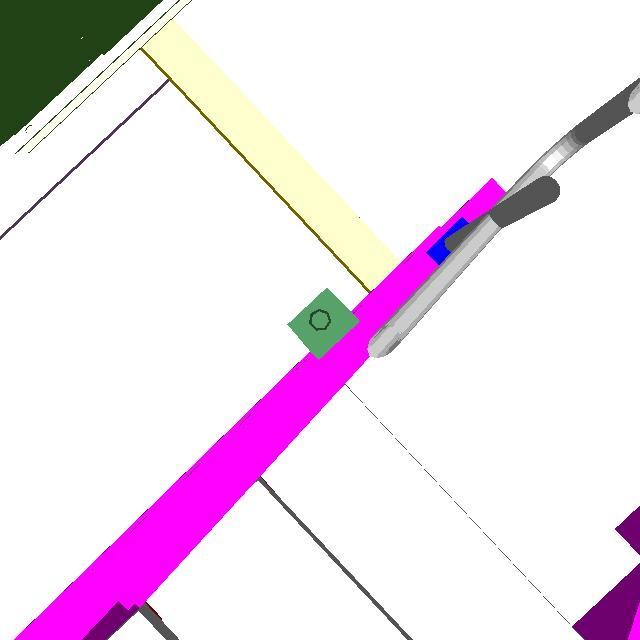Poste: (303, 306, 338, 339)
